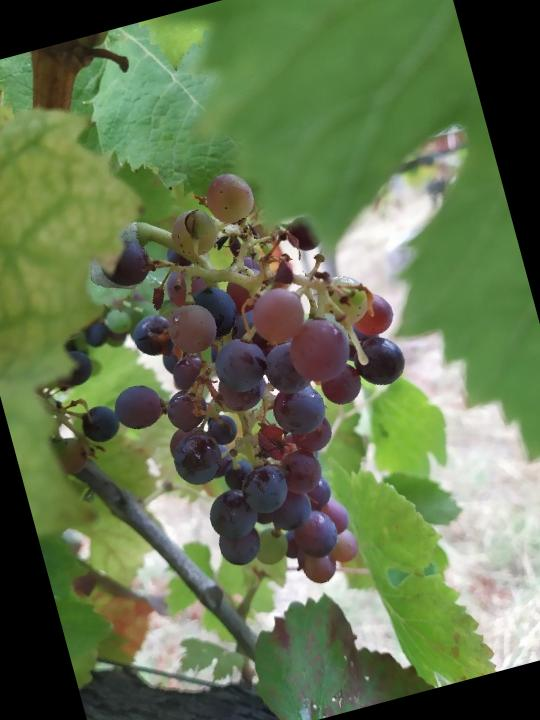grape: (25, 134, 464, 639)
